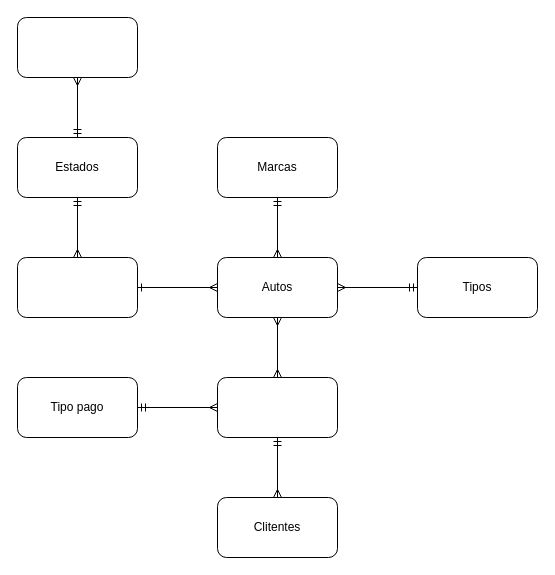
Some shapes in this 555 by 575 pixel diagram are drawn without their labels. The shapes that lost their labels are listed below. From the top down, each one's centre as x and y in pixels, then its label:
At point (77, 47): "CIudades".
At point (77, 287): "Oficinas".
At point (277, 407): "Rentas".
